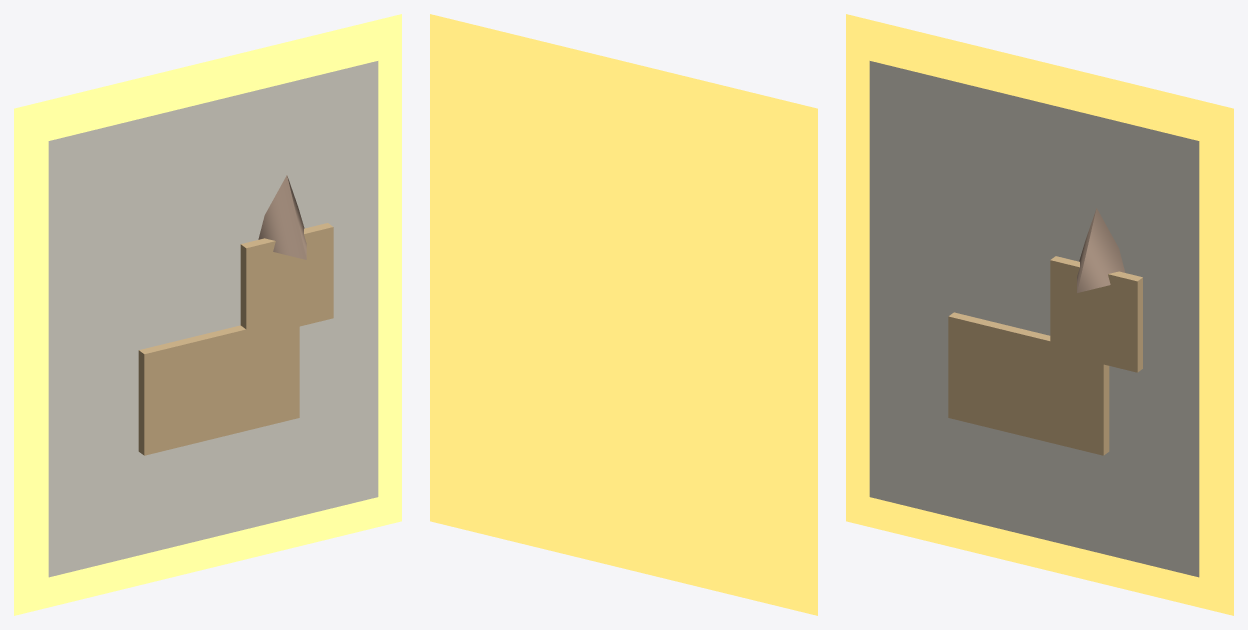
Rendered from portrait-puppy-lit.gltf.
The picture shows the model from 3 angles, left to right: view 1: azimuth 30°, elevation 25°; view 2: azimuth 150°, elevation 25°; view 3: azimuth 330°, elevation 25°; orthographic projection.
Visible parts, largest first — view 1: Mount, Frame, Body, Head, Ear; view 2: Frame; view 3: Mount, Frame, Body, Head, Ear.
Part boxes in pixels (x1=…): Mount: x1=48, y1=61, x2=378, y2=577; Frame: x1=14, y1=14, x2=401, y2=615; Body: x1=138, y1=316, x2=299, y2=455; Head: x1=240, y1=223, x2=333, y2=329; Ear: x1=258, y1=175, x2=306, y2=259; Frame: x1=430, y1=14, x2=817, y2=615; Mount: x1=869, y1=61, x2=1199, y2=577; Frame: x1=846, y1=14, x2=1233, y2=615; Body: x1=948, y1=312, x2=1109, y2=455; Head: x1=1050, y1=256, x2=1142, y2=372; Ear: x1=1077, y1=208, x2=1125, y2=292.
Size of the model in its own units: 0.8 by 1 by 0.11.
